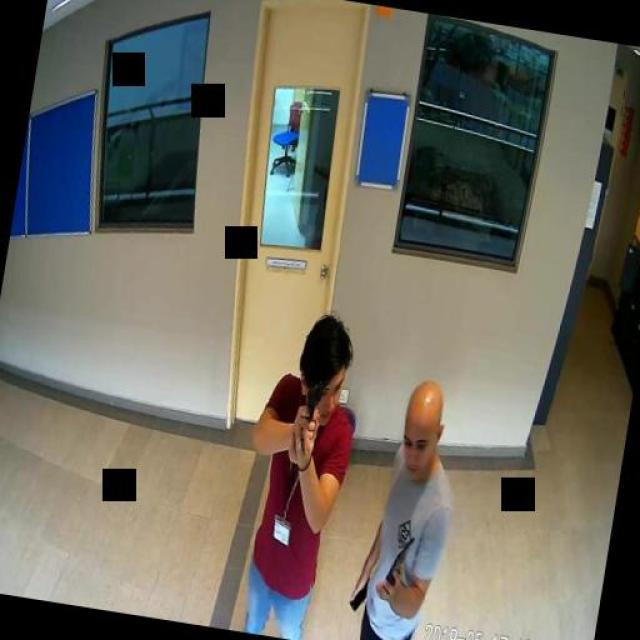gun: (298, 375, 322, 435)
